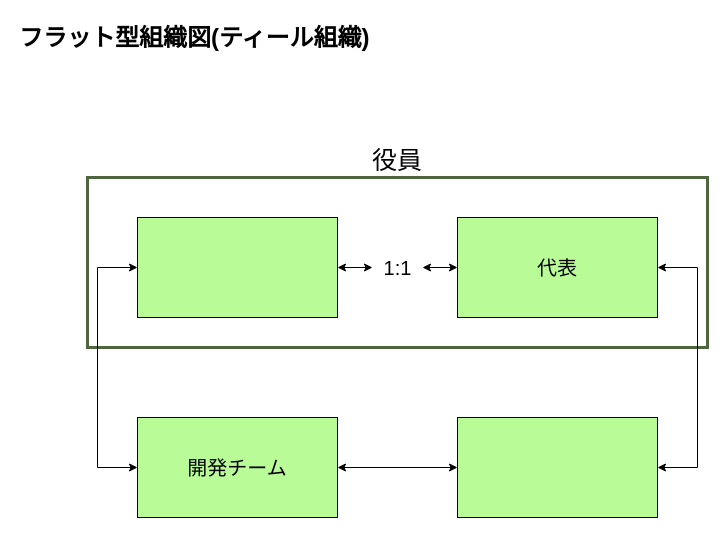
Some shapes in this 726 by 535 pixel diagram are drawn without their labels. Here are the shapes that lost their labels. From the top down, the centre of each, then its label:
At [237,267]: "副代表".
At [557,467]: "フィードバック チーム".
